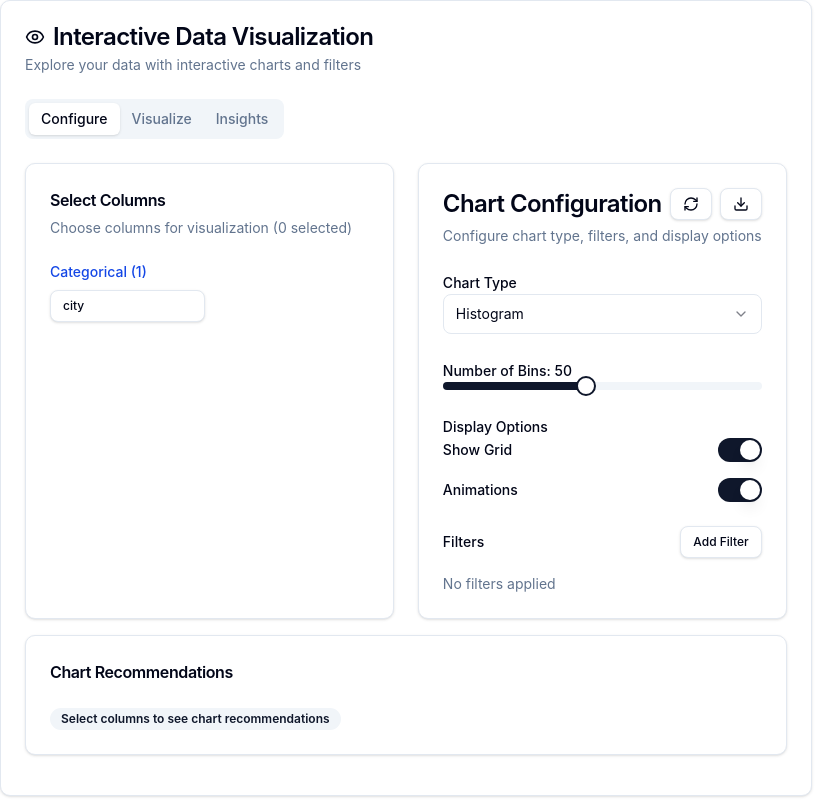
InteractiveVisualizationDashboard behaviour › visualize tab › says what to do when nothing can be selected
The image size is (829, 810).
Click the tab "Visualize". click: click(162, 119)
box: [120, 103, 204, 135]
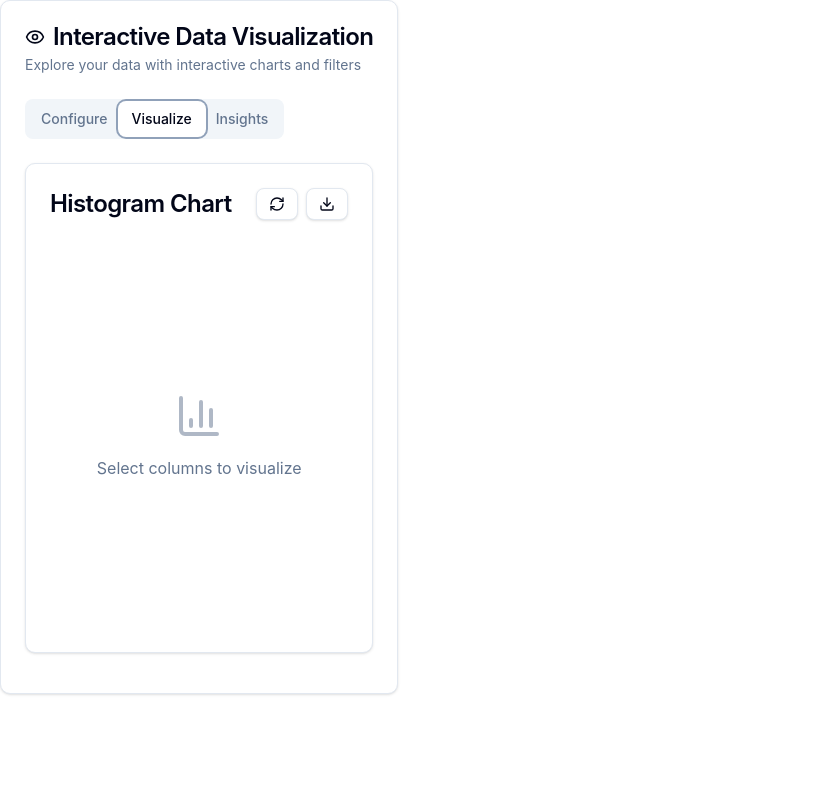
Result: the text "Select columns to visualize" is shown at [97, 456, 302, 480]
